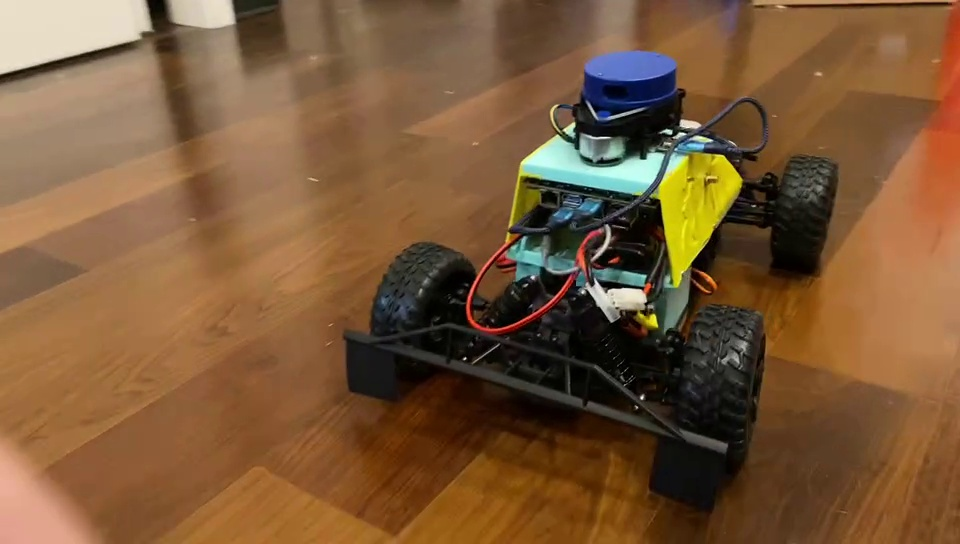mushr_car: (351, 51, 845, 509)
